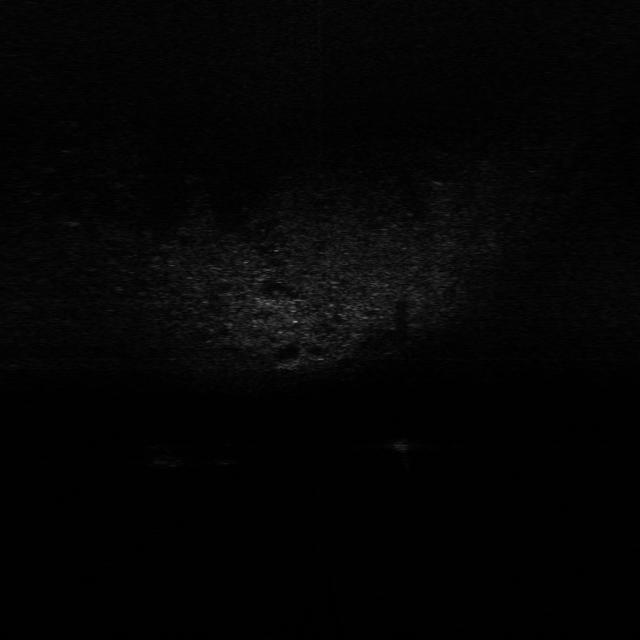ball: (206, 440, 244, 466)
circle cage: (138, 438, 187, 470)
cylinder: (391, 431, 417, 473)
